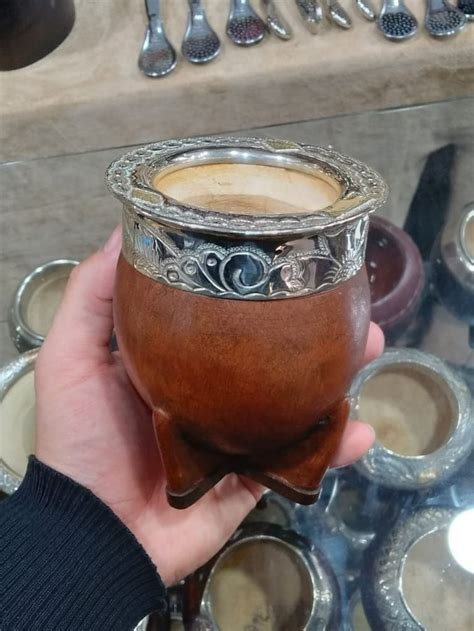cuero: (110, 269, 392, 508)
